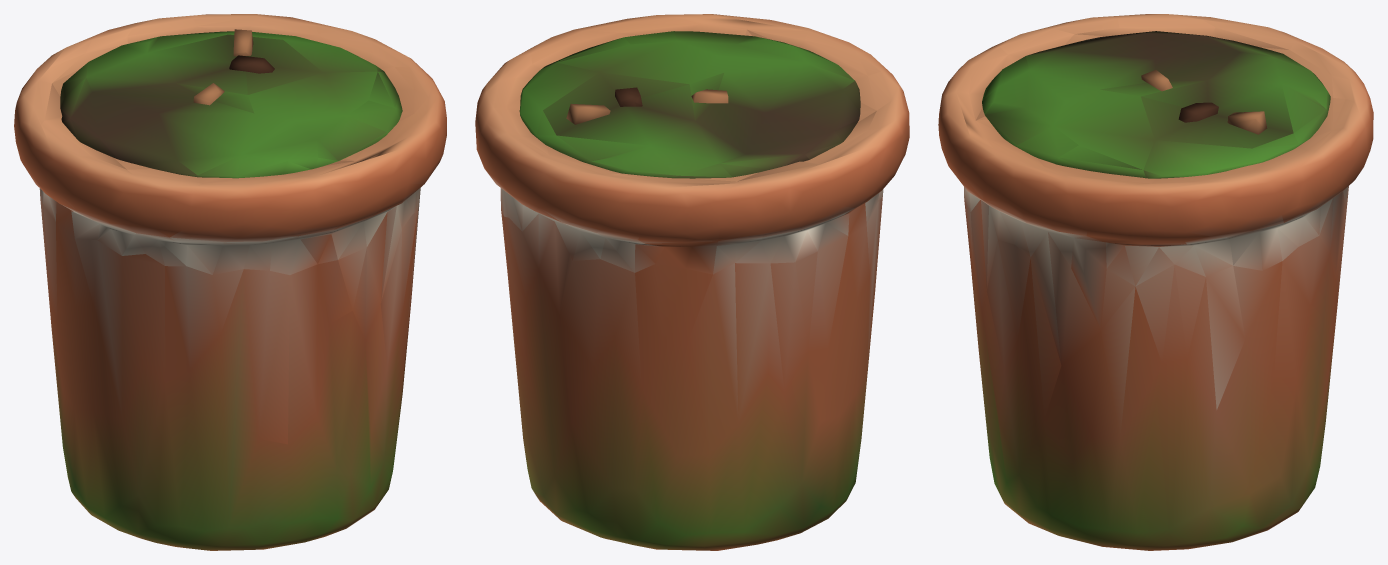
File: canopy_pot_lod2.glb
3 renders of one model, left to right at view 1: azimuth 30°, elevation 25°; view 2: azimuth 150°, elevation 25°; view 3: azimuth 270°, elevation 25°, orthographic.
Parts seen in each view (by area): view 1: canopy_pot.001; view 2: canopy_pot.001; view 3: canopy_pot.001.
Boxes of the visible parts, x1,y1,x2,y2 form: canopy_pot.001: [14, 14, 446, 550]; canopy_pot.001: [475, 14, 909, 550]; canopy_pot.001: [938, 14, 1373, 550].
Size of the model in its own units: 10.05 by 10.46 by 10.08.
